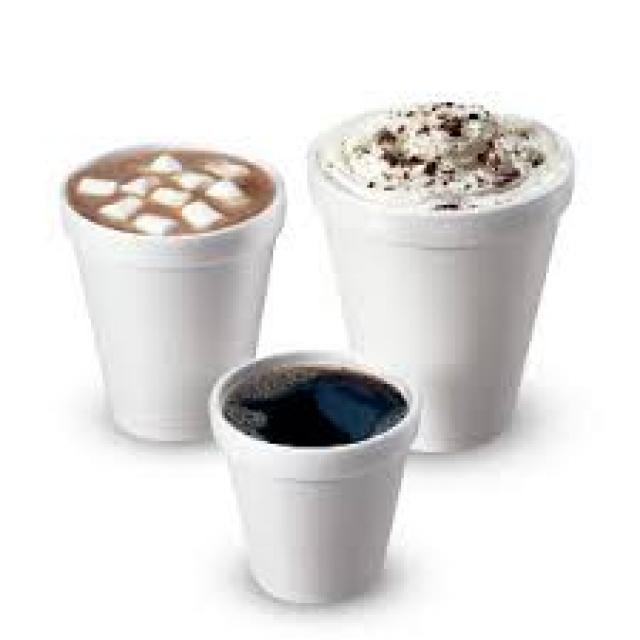organic waste: (313, 102, 560, 208), (62, 150, 268, 228), (222, 358, 401, 441)
